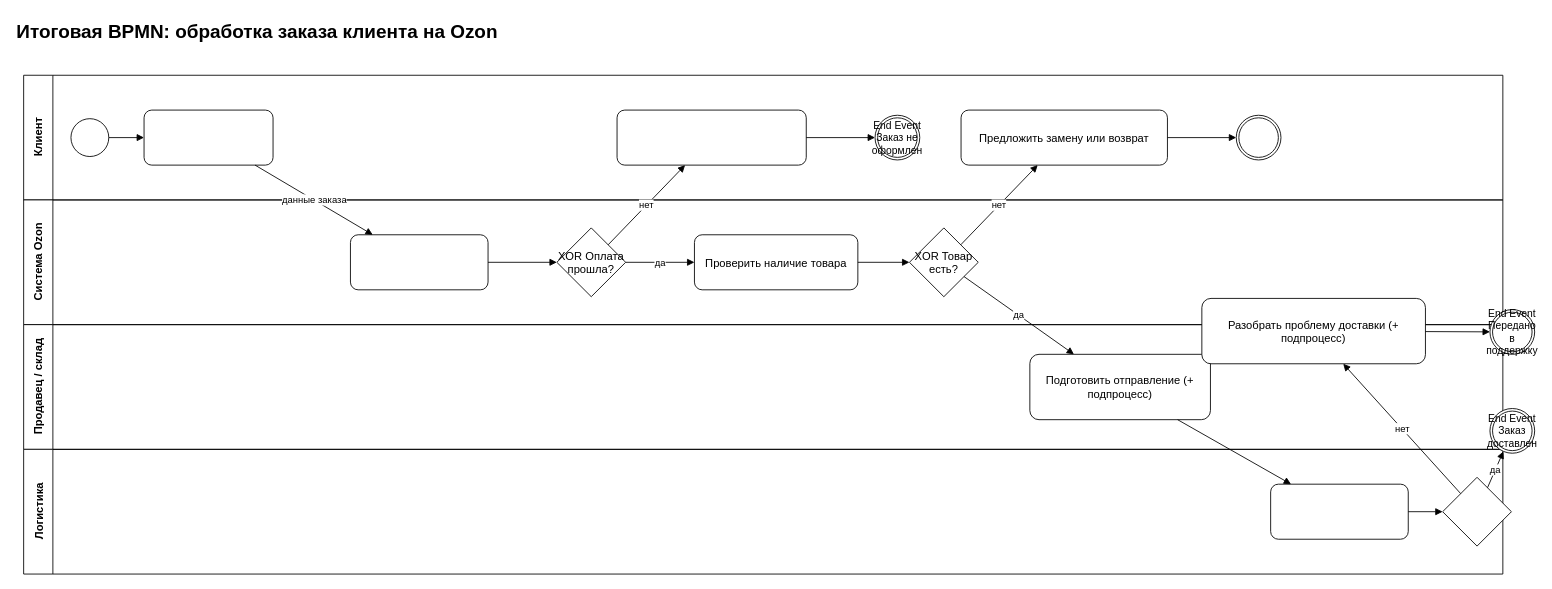
The diagram is 1552 pixels wide and 589 high, and some of its shapes have lost their labels. The centre of each missing label's shape, as x and y in pixels:
"End Event Заказ отменён" goes at pixel 1258 137.
"Start Event Заказ создан" goes at pixel 89 137.
"XOR Заказ получен?" goes at pixel 1476 511.
"Доставить заказ" goes at pixel 1339 511.
"Подтвердить заказ" goes at pixel 208 137.
"Проверить оплату" goes at pixel 419 262.
"Уведомить об ошибке оплаты" goes at pixel 711 137.
